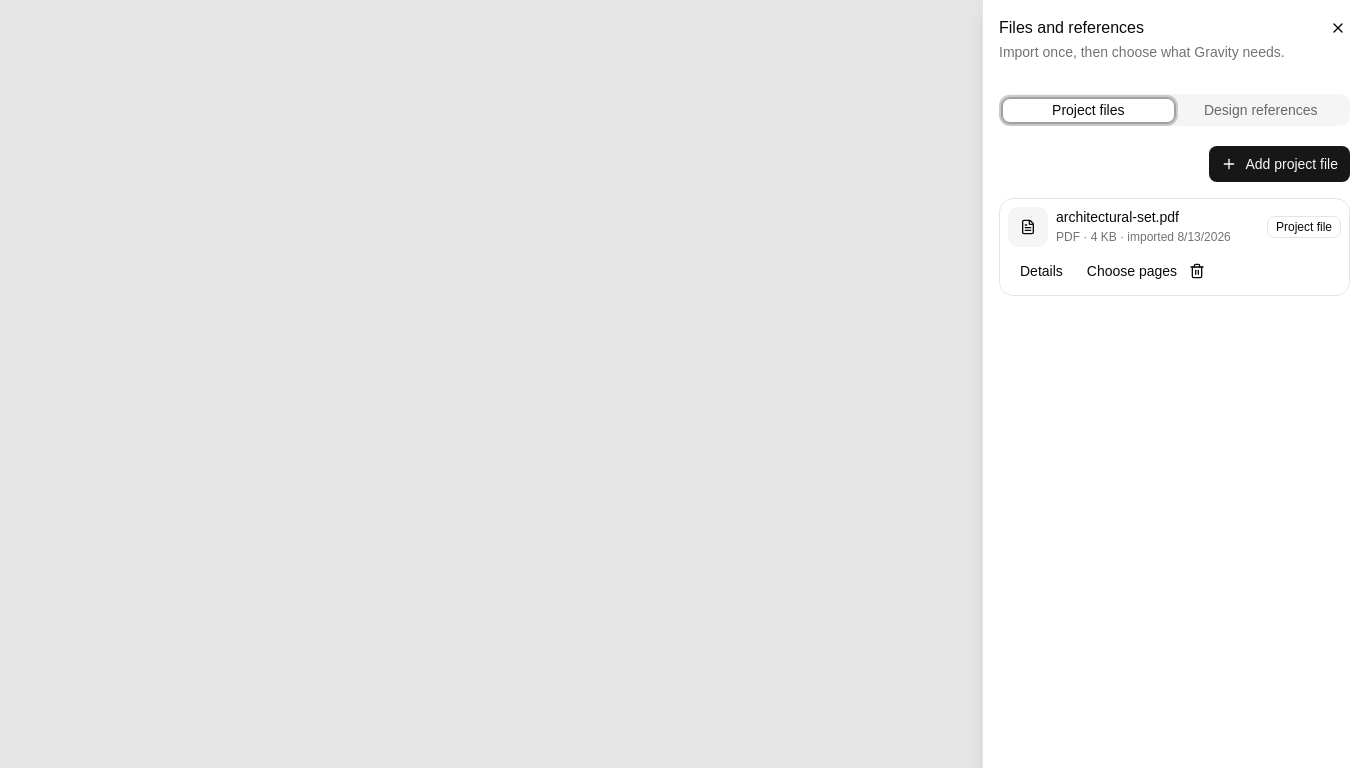
Test: ResourceLibrarySheet › shows real import progress states and a reference-safe removal error
This screenshot has width=1366, height=768.
Expected: the text "architectural-set.pdf" is shown, [1056, 209, 1179, 225]
Click the button "Add project file": (1280, 164) [1209, 146, 1350, 182]
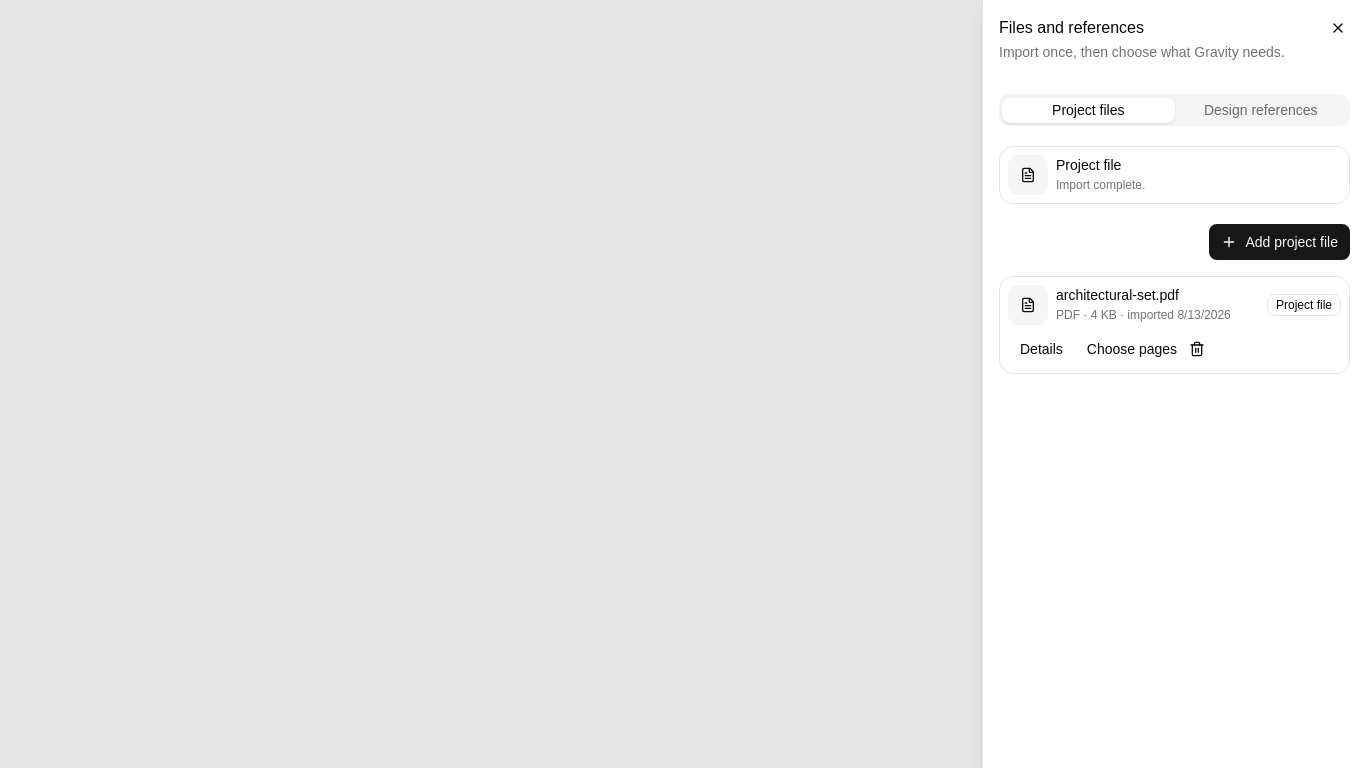
Click the button named "Remove architectural-set.pdf from project": (1197, 349) [1189, 341, 1205, 357]
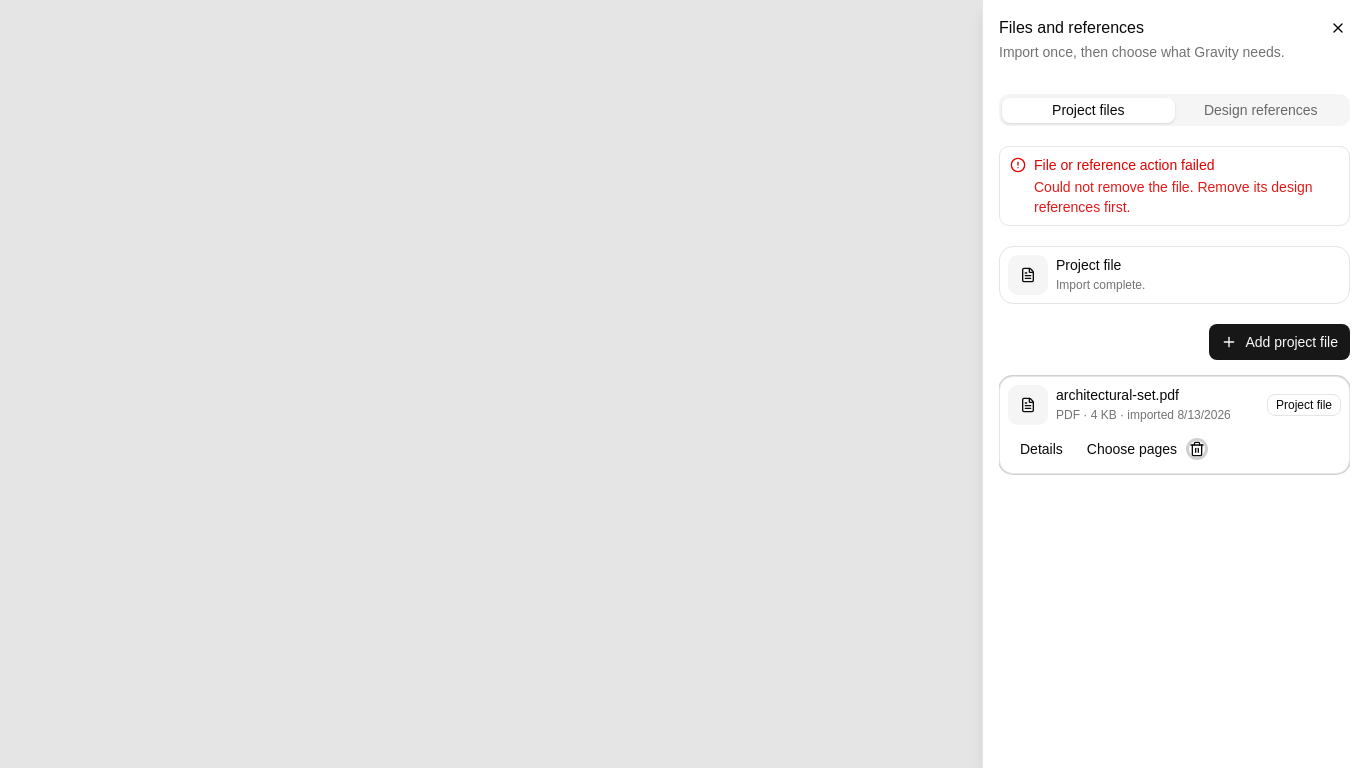
Result: the message shows "Could not remove the file. Remove its design references first." at [1034, 179, 1313, 215]
